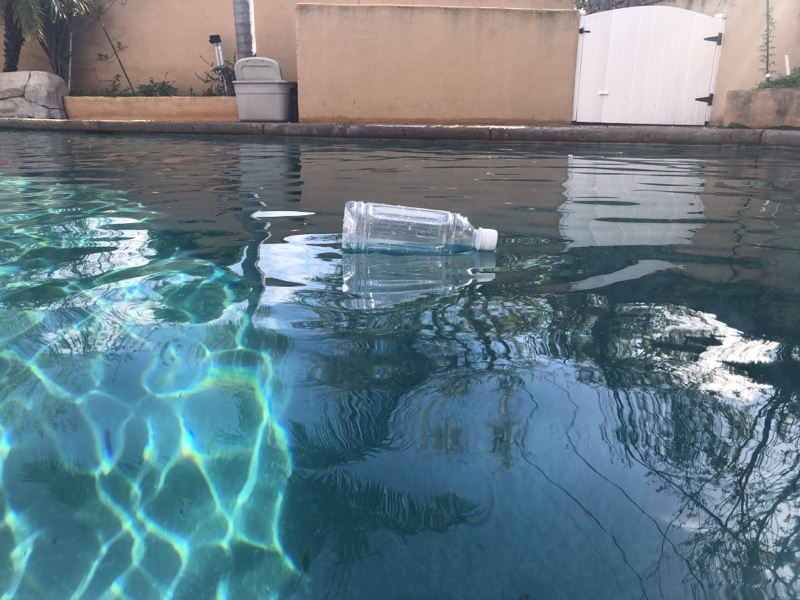Plastic Bottle: (338, 193, 501, 257)
